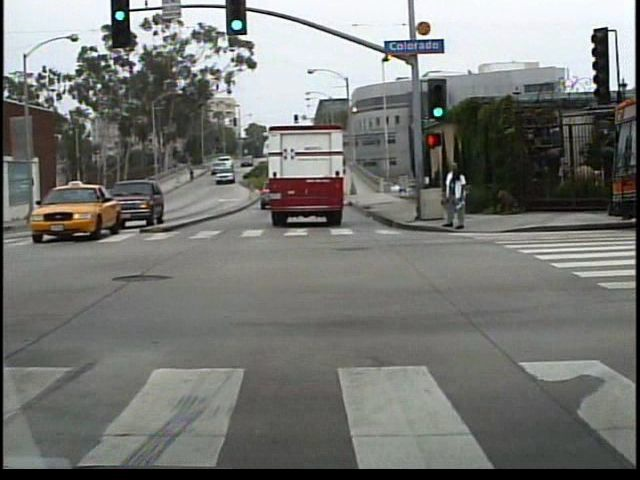person: (442, 159, 469, 232)
